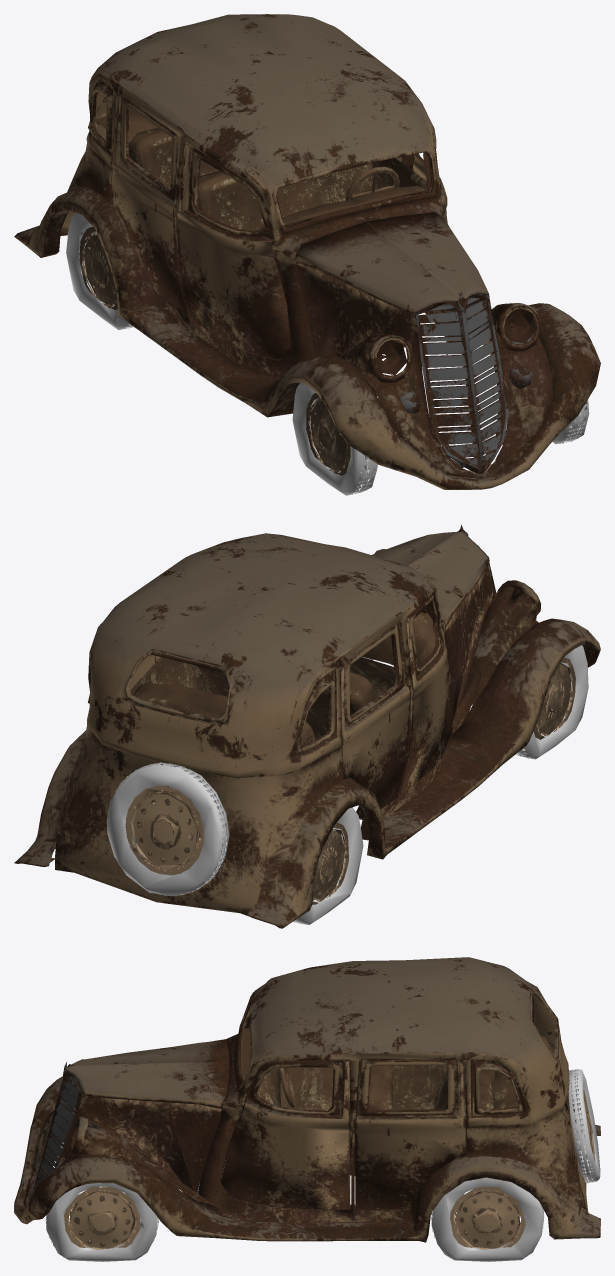
Rendered from classic_car.fbx.
3 views of the same model, one above another, from view 1: azimuth 30°, elevation 25°; view 2: azimuth 150°, elevation 25°; view 3: azimuth 270°, elevation 25° (orthographic). The views are drawn at different scales.
Visible parts, largest first — view 1: Plane23, Cylinder53, Cylinder58, Cylinder54, Object27; view 2: Plane23, Cylinder54, Object27, Cylinder58; view 3: Plane23, Cylinder54, Cylinder58, Object27, Cylinder53.
Part boxes in pixels (x1,y1,x2,y2): Plane23: (14,14,600,489); Cylinder53: (376,291,536,473); Cylinder58: (95,107,427,230); Cylinder54: (66,213,589,495); Object27: (79,226,527,475); Plane23: (14,531,600,928); Cylinder54: (106,645,588,924); Object27: (126,657,575,904); Cylinder58: (130,612,435,754); Plane23: (14,957,600,1242); Cylinder54: (45,1069,600,1261); Cylinder58: (241,1028,554,1175); Object27: (64,1089,594,1249); Cylinder53: (29,1062,87,1199).
Size of the model in its own units: 207 by 194 by 459.
